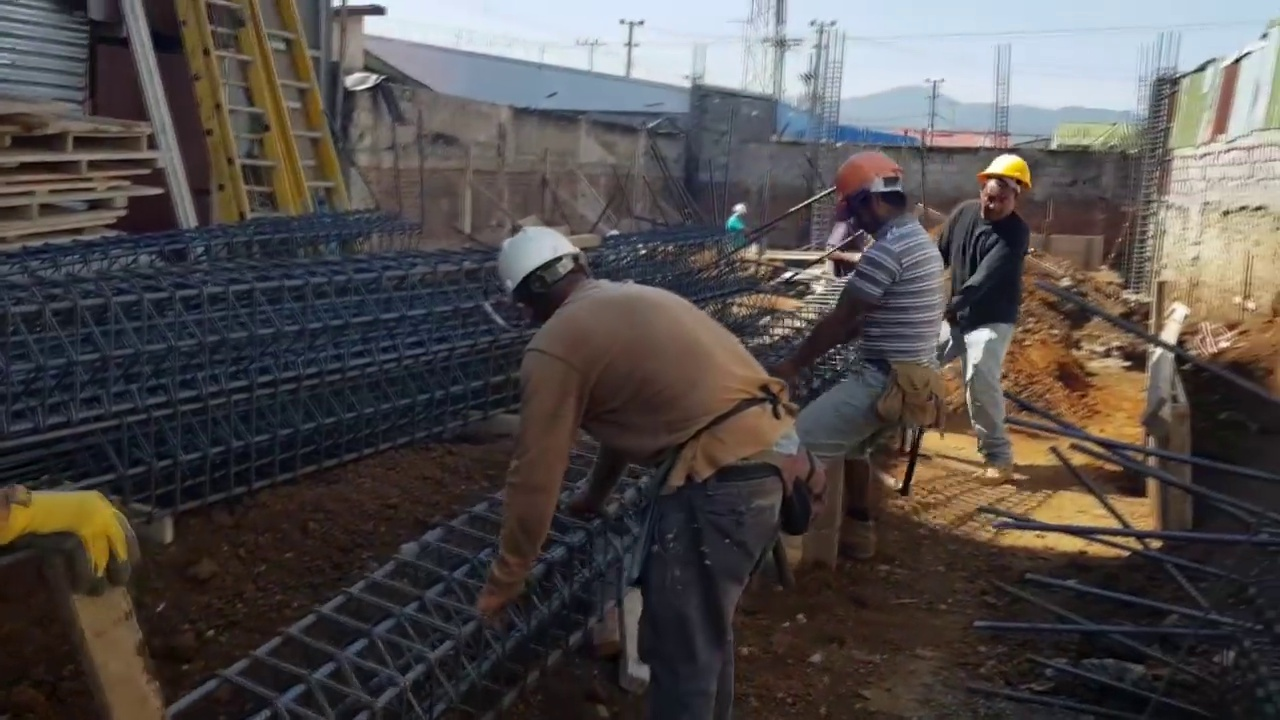helmet: (497, 227, 579, 305), (829, 152, 904, 215), (977, 154, 1035, 186), (732, 204, 746, 215)
helmet-on: (495, 225, 599, 325), (829, 150, 912, 243), (977, 153, 1036, 218), (730, 203, 747, 219)
person: (471, 216, 811, 715), (781, 149, 927, 552), (944, 152, 1040, 492), (723, 203, 748, 250)
